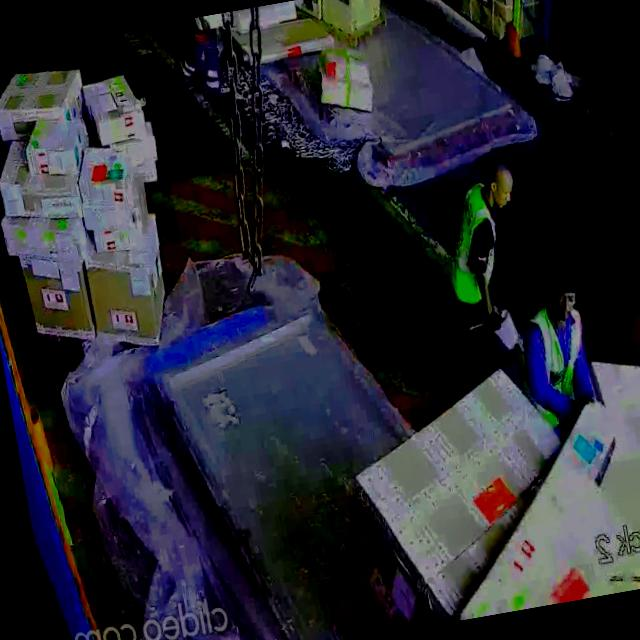Box: (81, 243, 174, 339), (23, 256, 96, 344), (0, 64, 86, 133), (310, 41, 377, 114), (72, 144, 140, 212), (88, 68, 148, 142), (2, 216, 78, 261), (0, 177, 71, 224), (28, 116, 80, 170)
